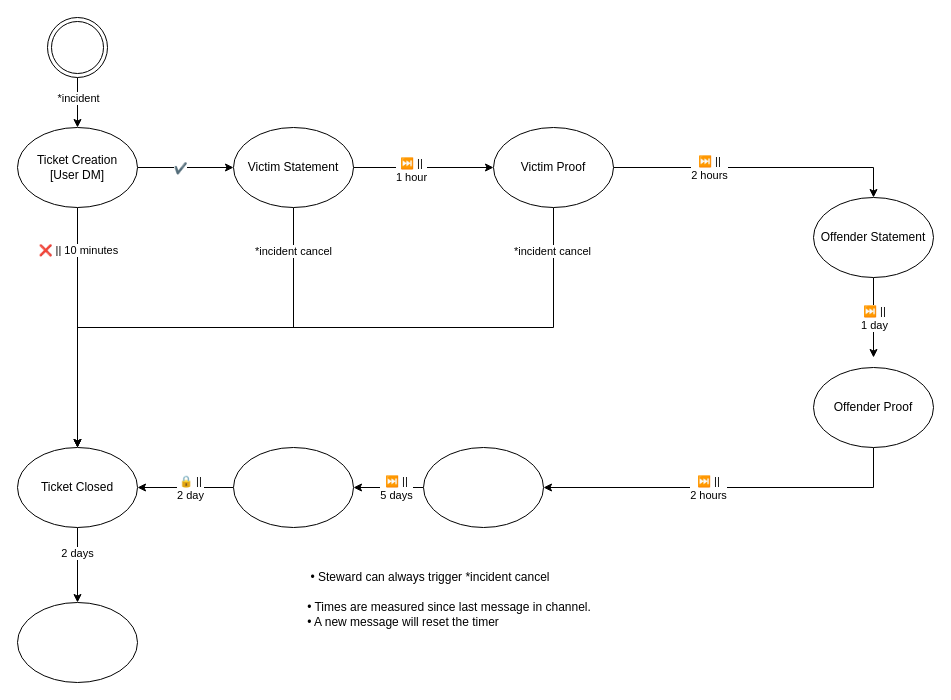
This 951x700 diagram has some shape labels left out. Each missing label, with the centre of its shape:
"'Review Phase'" goes at (x=293, y=487).
"Channel Delete" goes at (x=77, y=642).
"Steward Statement" goes at (x=483, y=487).
